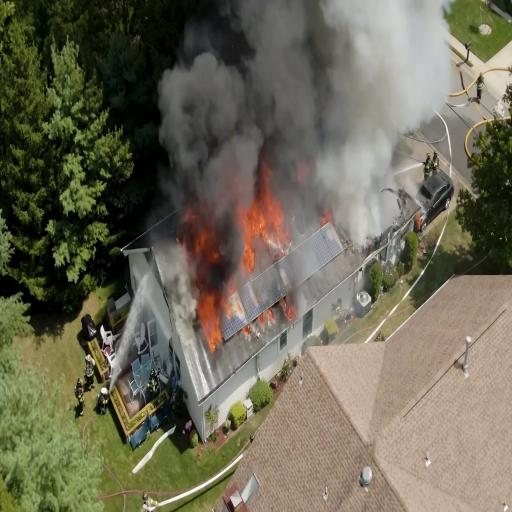fire: (180, 199, 220, 330), (236, 169, 284, 260)
smoke: (244, 0, 445, 131), (156, 34, 264, 178)
